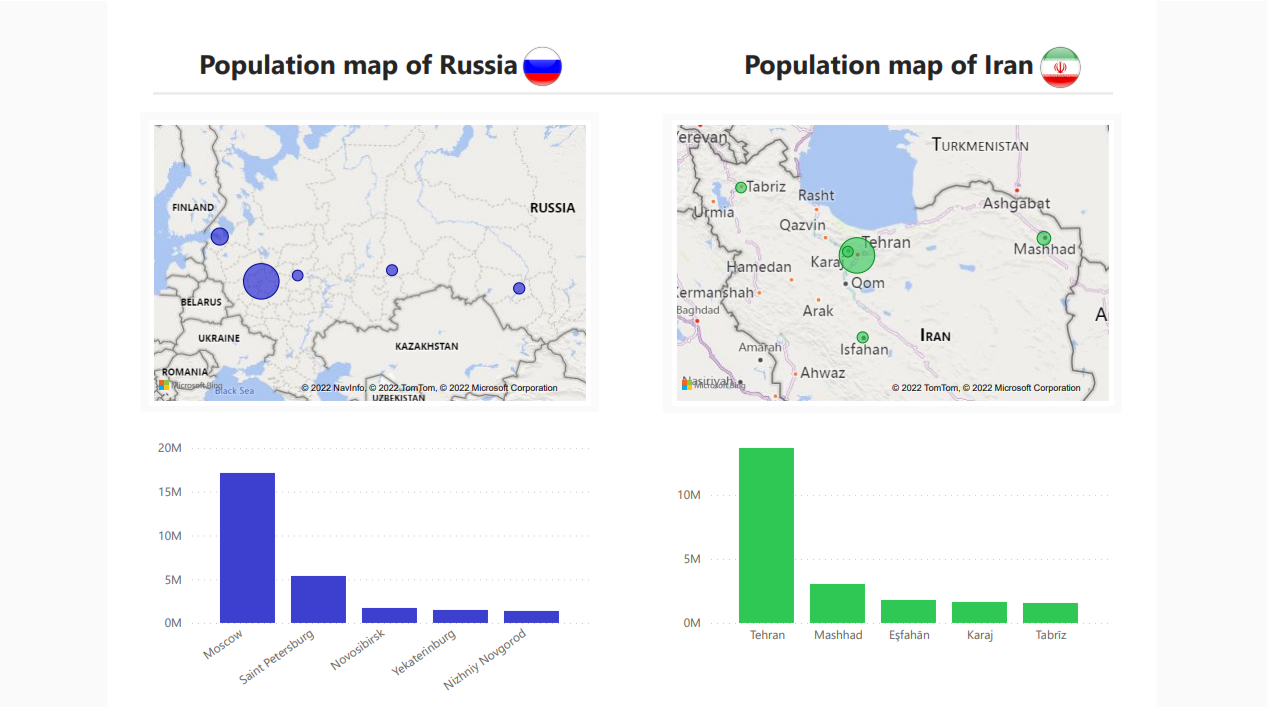

The page's visual inventory and layout, read from the dashboard file:
{"tool":"powerbi","page":{"name":"Page 1","canvas":[1280,720],"ordinal":0},"visuals":[{"type":"image","box":[0,0,1280,720],"z":0},{"type":"map","fields":{"Category":["Sheet-Russia.city"],"Size":["Sum(Sheet-Russia.population)"]},"box":[157,124,441,285],"z":1000},{"type":"map","fields":{"Category":["Sheet-Iran.city"],"Size":["Sum(Sheet-Iran.population)"]},"box":[680,124,441,285],"z":2000},{"type":"textbox","box":[747,44,330,87],"z":3000},{"type":"textbox","box":[202,44,360,62],"z":4000},{"type":"clusteredColumnChart","fields":{"Category":["Sheet-Iran.city"],"Y":["Sum(Sheet-Iran.population)"]},"box":[680,434,441,223],"z":5000},{"type":"clusteredColumnChart","fields":{"Category":["Sheet-Russia.city"],"Y":["Sum(Sheet-Russia.population)"]},"box":[161,438,441,274],"z":6000},{"type":"shape","box":[161,77,960,41],"z":7000},{"type":"image","box":[517,45,66,52],"z":8000},{"type":"image","box":[1034,40,68,63],"z":9000}]}

Visuals, with their boxes in screenshot pixels (x1, y1, x2, y2), scaled from the page's 1280x720 canvas onto the 1267x707 screenshot:
image: <box>0,0,1266,706</box>
map - Sheet-Russia.city x Sum(Sheet-Russia.population): <box>155,122,592,402</box>
map - Sheet-Iran.city x Sum(Sheet-Iran.population): <box>673,122,1110,402</box>
textbox: <box>739,43,1066,129</box>
textbox: <box>200,43,556,104</box>
clusteredColumnChart - Sheet-Iran.city x Sum(Sheet-Iran.population): <box>673,426,1110,645</box>
clusteredColumnChart - Sheet-Russia.city x Sum(Sheet-Russia.population): <box>159,430,596,699</box>
shape: <box>159,76,1110,116</box>
image: <box>512,44,577,95</box>
image: <box>1023,39,1091,101</box>
